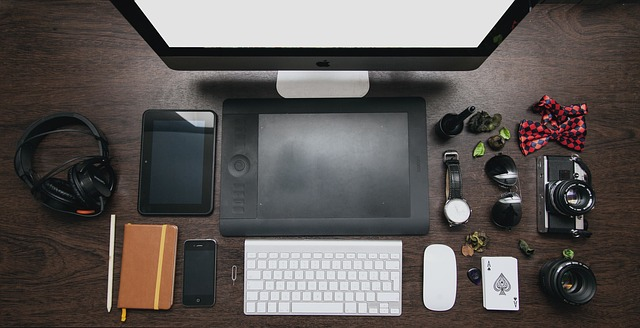headphones: (16, 113, 117, 219)
